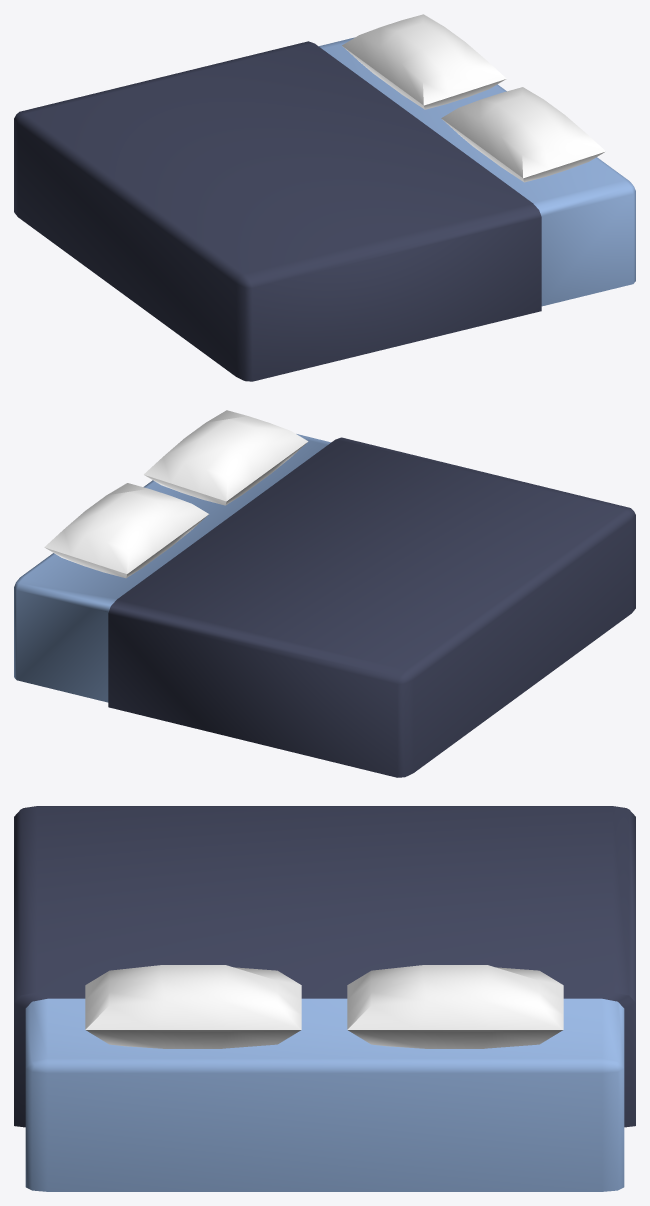
File: Bed4x4.fbx
The picture shows the model from 3 angles, top to bottom: view 1: azimuth 30°, elevation 25°; view 2: azimuth 150°, elevation 25°; view 3: azimuth 270°, elevation 25°; orthographic projection. The views are drawn at different scales.
Parts seen in each view (by area): view 1: Bed4x4; view 2: Bed4x4; view 3: Bed4x4.
Boxes of the visible parts, x1,y1,x2,y2 form: Bed4x4: (14, 14, 635, 381); Bed4x4: (14, 410, 635, 777); Bed4x4: (14, 806, 635, 1191).
Size of the model in its own units: 581 by 196 by 594.
